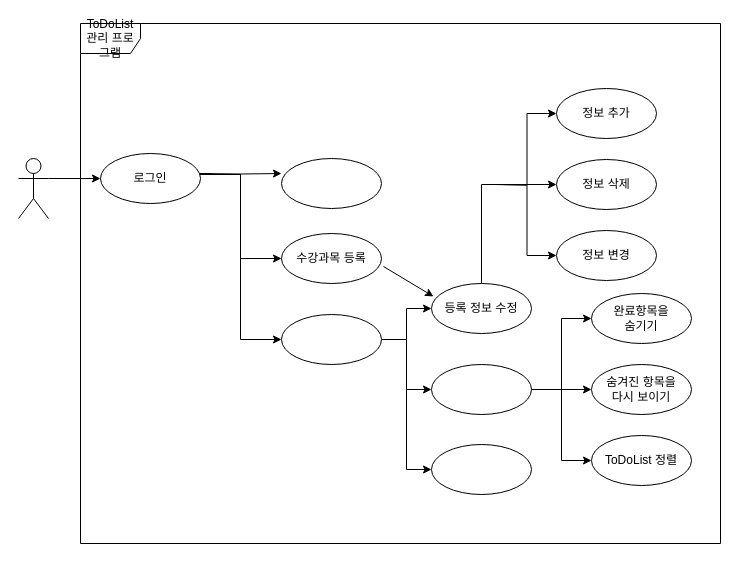
Image size: 738x561. Some labels were removed from this diagram. Here are the shapes that lost their labels. From the top down, the box of each, then its label:
(18, 158, 48, 218): 대학생
(280, 158, 382, 208): 학사시스템 정보 조회
(280, 314, 382, 364): ToDo항목을 등록
(430, 364, 532, 414): ToDoList 작성
(430, 444, 532, 494): 중요 ToDo 항목 별도 표시
